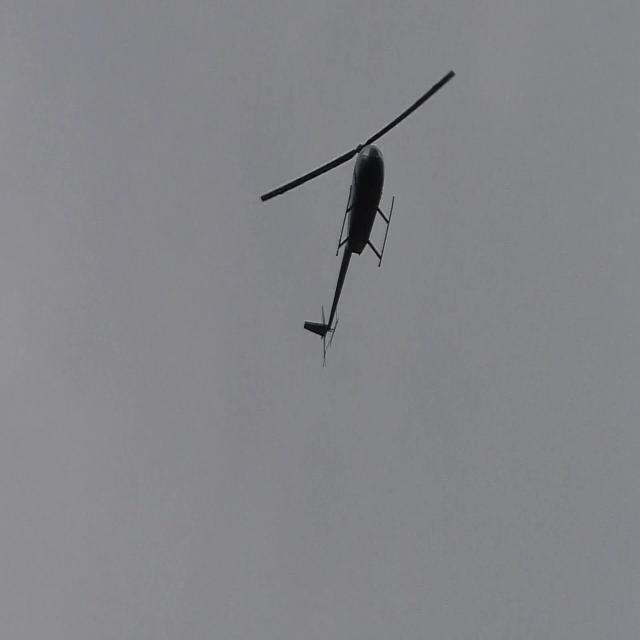CIV_HELO: (303, 137, 395, 341)
